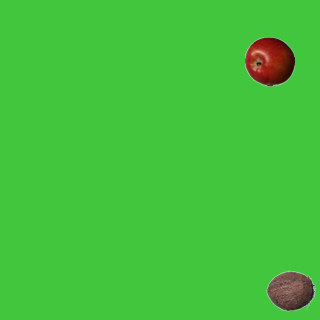Apple Braeburn: (244, 36, 294, 86)
Cocos: (265, 265, 315, 315)
